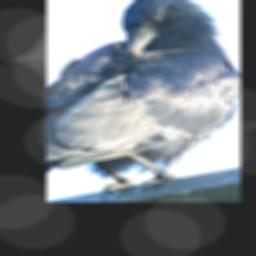Crow: (46, 0, 239, 201)
